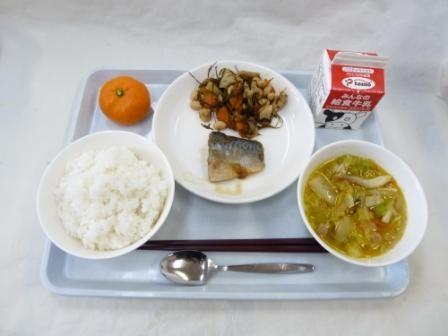Citrus: (88, 64, 160, 126)
Fish: (191, 128, 277, 189)
Milk: (306, 40, 396, 135)
Rice: (32, 134, 171, 255)
Soups: (294, 142, 416, 265)
salad with sauce: (195, 65, 294, 135)
